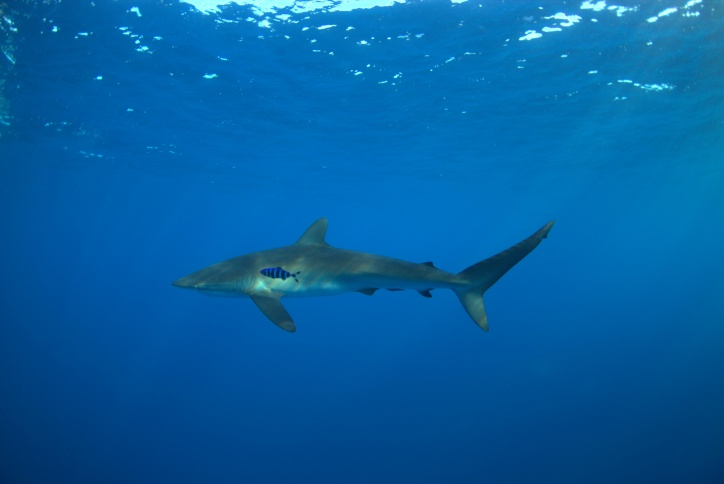Sedoso: (157, 211, 565, 349)
